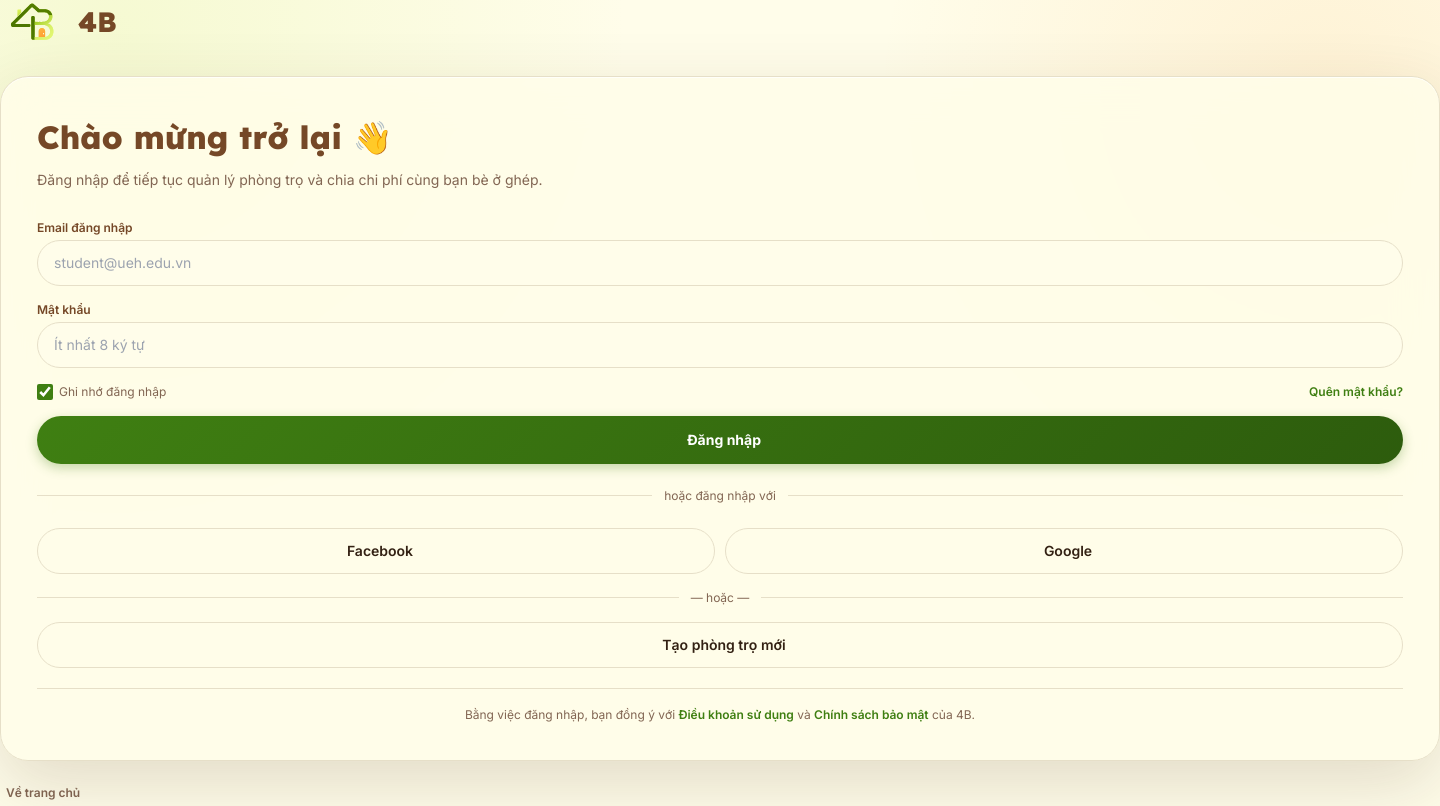
it: Authentication Pages › LoginPage › shows error for invalid email format
Type "invalid-email" into the field with placeholder "student@ueh.edu.vn" at {"x": 720, "y": 263}, box [37,240,1403,286]
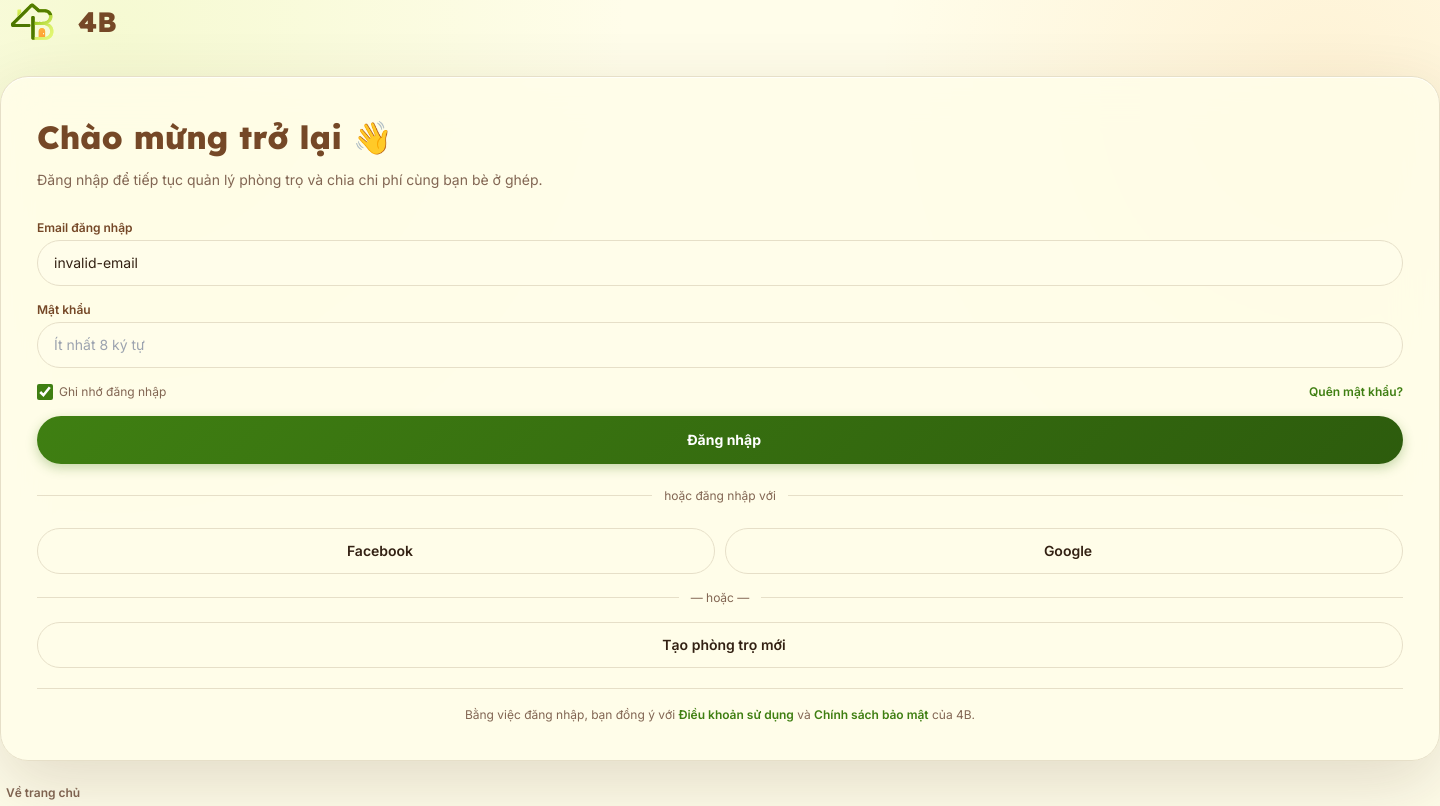
Type "12345678" into the password field with placeholder "Ít nhất 8 ký tự" at {"x": 720, "y": 345}, box [37,322,1403,368]
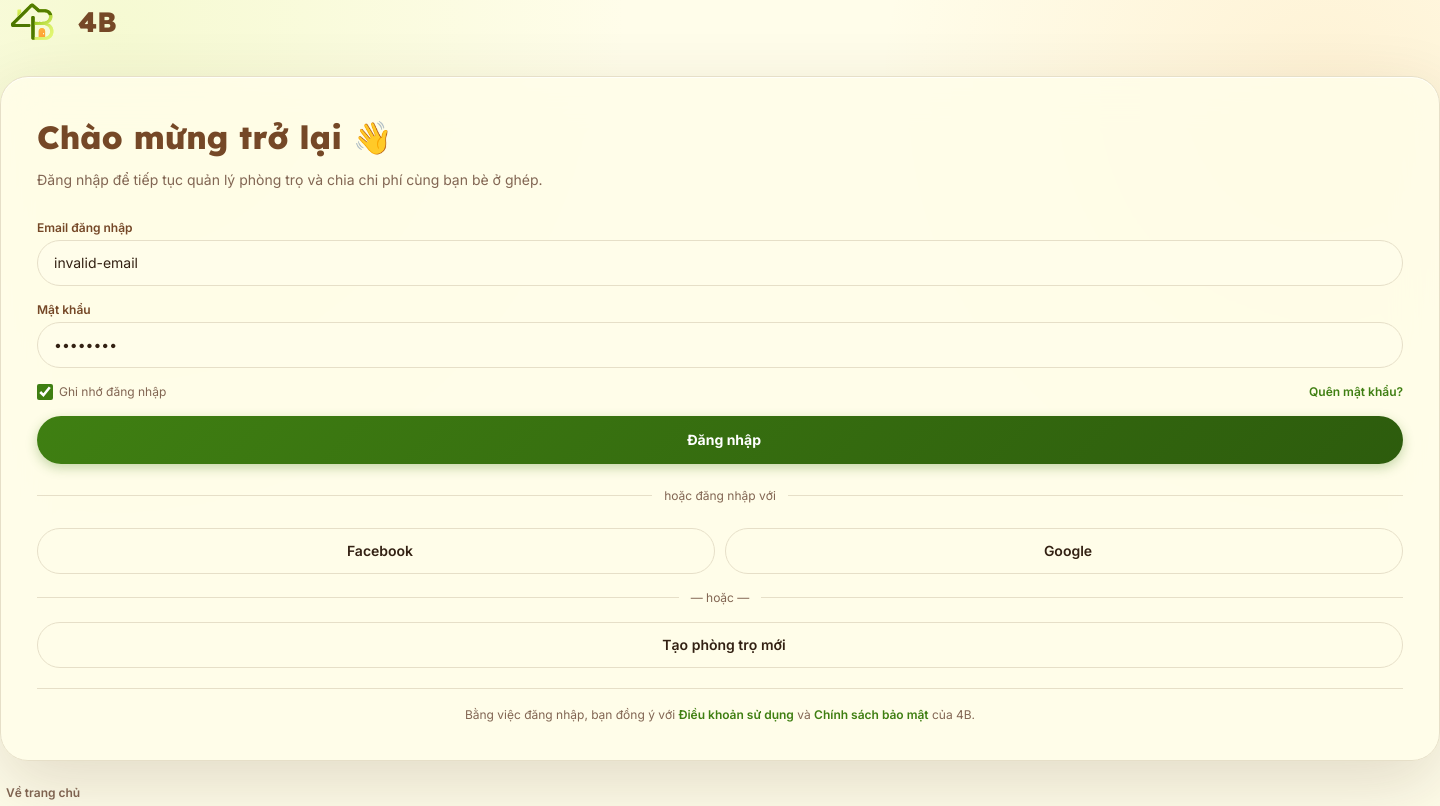
Click the button "Đăng nhập" at {"x": 720, "y": 440}, box [37,416,1403,464]
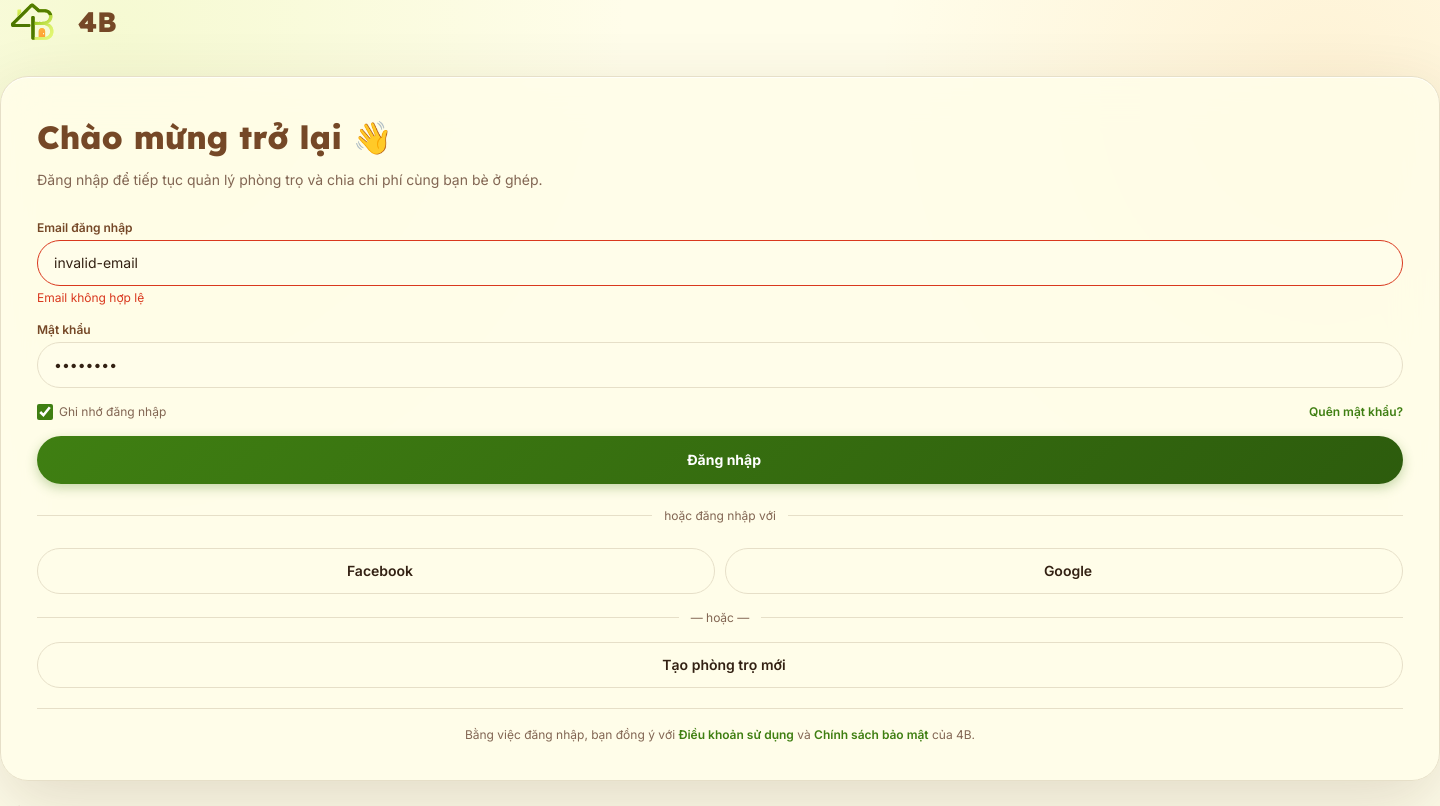
Check: the text "Email không hợp lệ" is shown, box [37,290,144,305]
